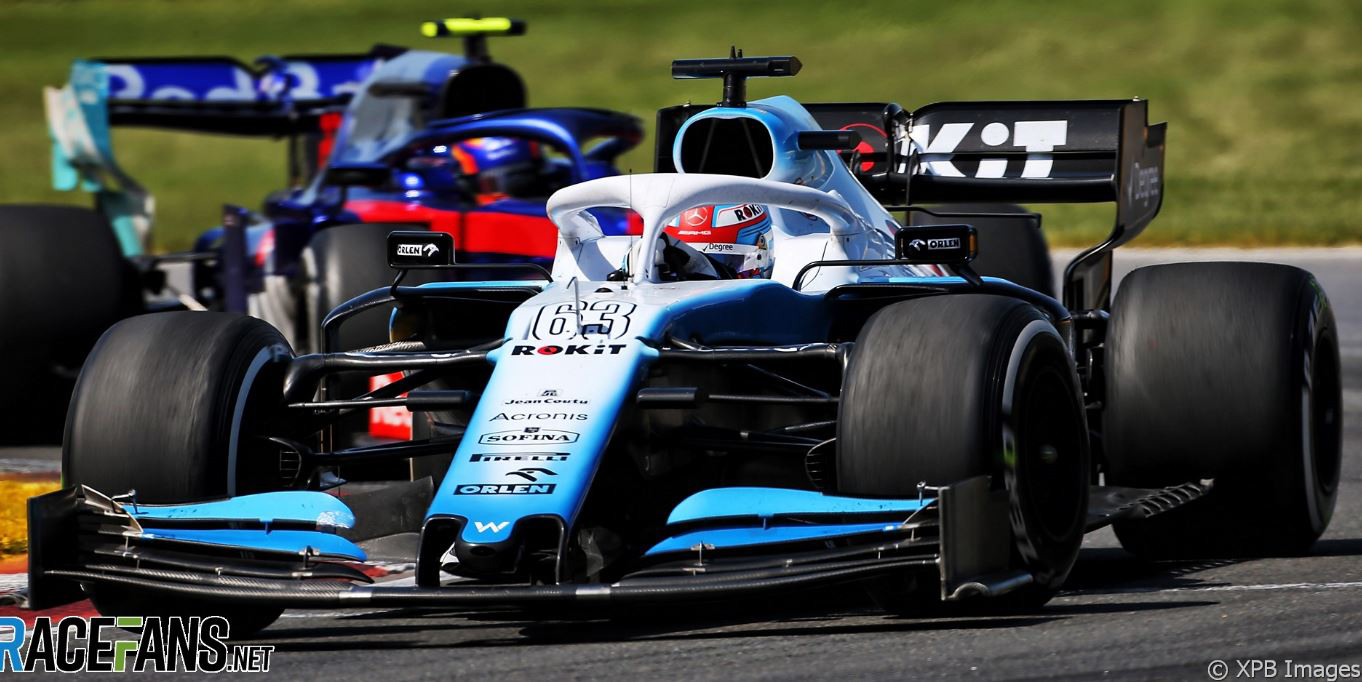F1 Car: (69, 41, 1351, 649)
